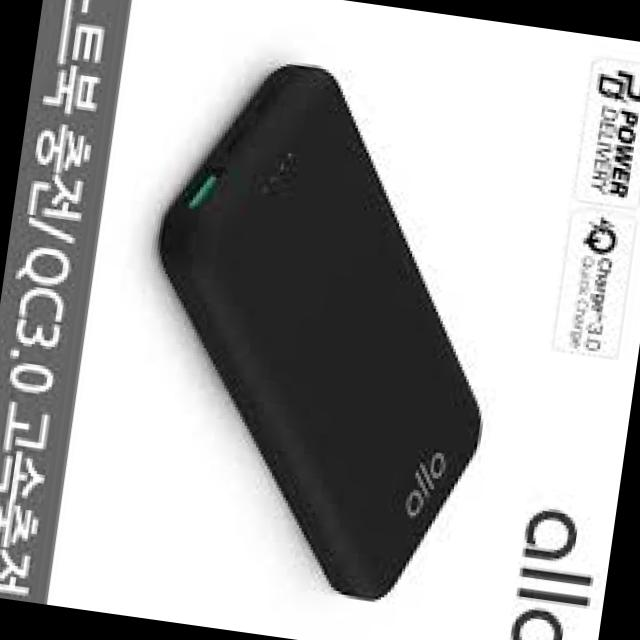portable-charger: (108, 53, 530, 612)
